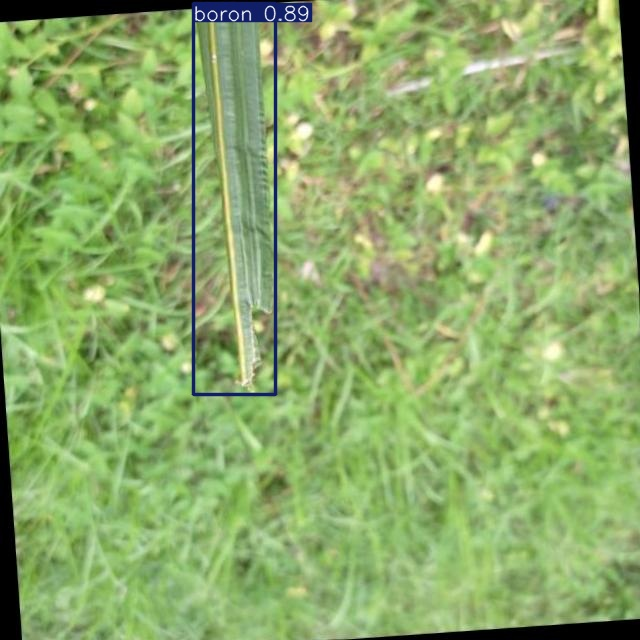nitrogen: (194, 3, 275, 394)
